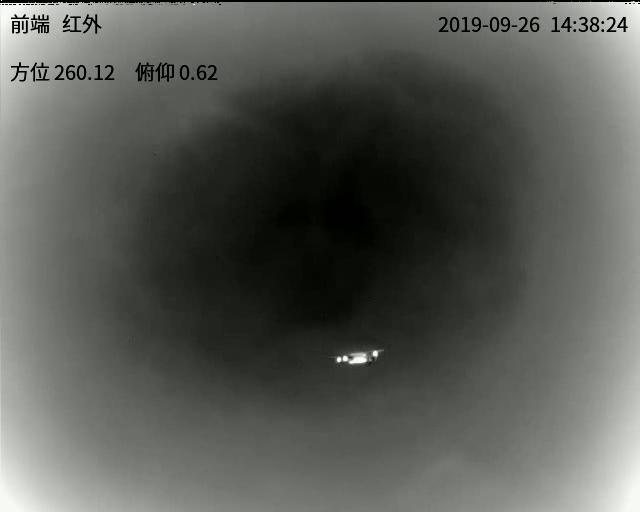DRONE: (332, 348, 384, 367)
